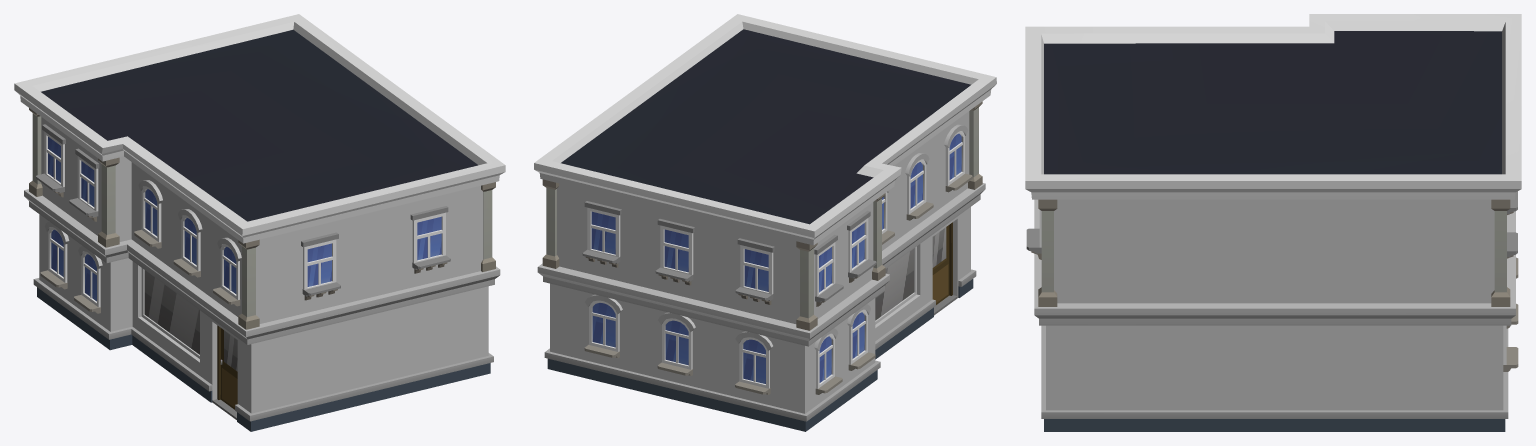
File: Building_1_2_G.fbx
3 renders of one model, left to right at view 1: azimuth 30°, elevation 25°; view 2: azimuth 150°, elevation 25°; view 3: azimuth 270°, elevation 25°, orthographic. The views are drawn at different scales.
Parts seen in each view (by area): view 1: Building_1_2_G; view 2: Building_1_2_G; view 3: Building_1_2_G.
Part boxes in pixels (x1,y1,x2,y2): Building_1_2_G: (14, 14, 505, 431); Building_1_2_G: (534, 14, 996, 431); Building_1_2_G: (1025, 14, 1521, 431).
Size of the model in its own units: 841 by 600 by 1057.
